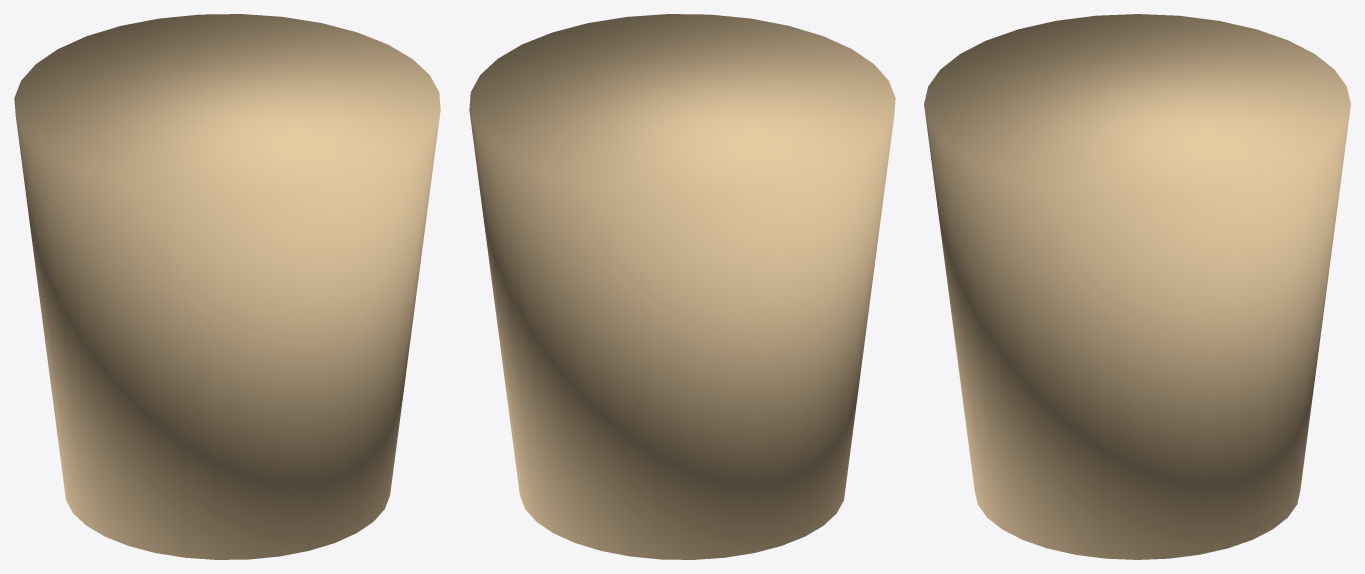
File: bubbletea.dae
The picture shows the model from 3 angles, left to right: view 1: azimuth 30°, elevation 25°; view 2: azimuth 150°, elevation 25°; view 3: azimuth 270°, elevation 25°; orthographic projection.
Visible parts, largest first — view 1: Cylinder; view 2: Cylinder; view 3: Cylinder.
Part boxes in pixels (x1=…): Cylinder: x1=14, y1=14, x2=440, y2=559; Cylinder: x1=469, y1=14, x2=895, y2=559; Cylinder: x1=924, y1=14, x2=1350, y2=559.
Size of the model in its own units: 2 by 2 by 2.
1 material, 1 textured.
